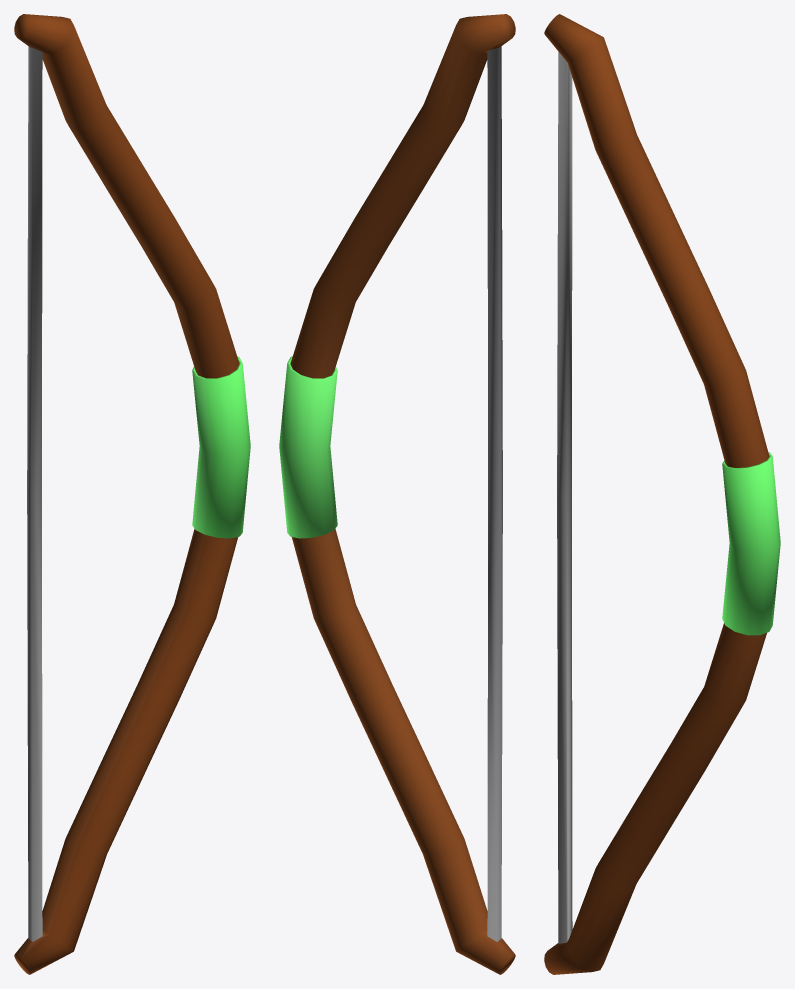
The model's file is trap_fencebig_5.glb.
3 renders of one model, left to right at view 1: azimuth 30°, elevation 25°; view 2: azimuth 150°, elevation 25°; view 3: azimuth 330°, elevation 25°, orthographic.
Visible parts, largest first — view 1: Circle.002_visual; view 2: Circle.002_visual; view 3: Circle.002_visual.
Boxes of the visible parts, box(x1,y1,x2,y2) form: Circle.002_visual: box(14, 14, 250, 974); Circle.002_visual: box(279, 14, 515, 974); Circle.002_visual: box(544, 14, 780, 974).
Size of what is drawn, in the model's own units: 0.5118 by 2.04 by 0.0986.
Materials: 1 (1 with a texture image).
